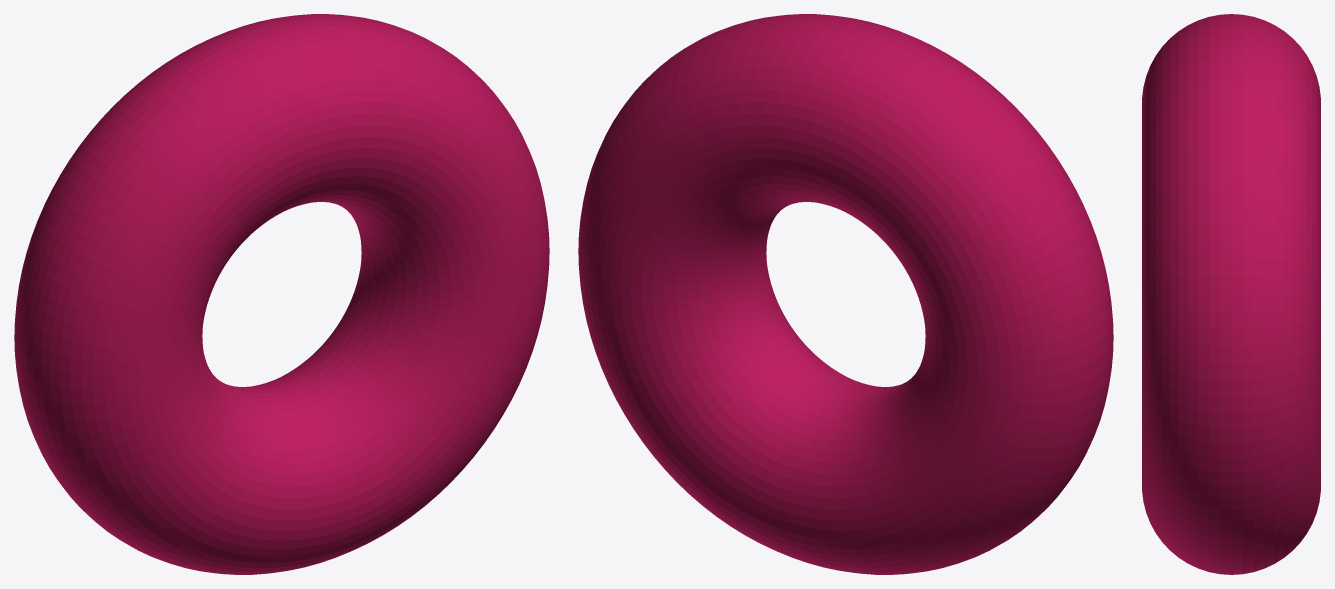
The picture shows the model from 3 angles, left to right: view 1: azimuth 30°, elevation 25°; view 2: azimuth 150°, elevation 25°; view 3: azimuth 270°, elevation 25°; orthographic projection. The views are drawn at different scales.
Visible parts, largest first — view 1: world; view 2: world; view 3: world.
Part boxes in pixels (x1,y1,x2,y2): world: (14,14,549,574); world: (578,14,1113,574); world: (1142,14,1320,574).
Size of the model in its own units: 25.47 by 25.47 by 8.12.
